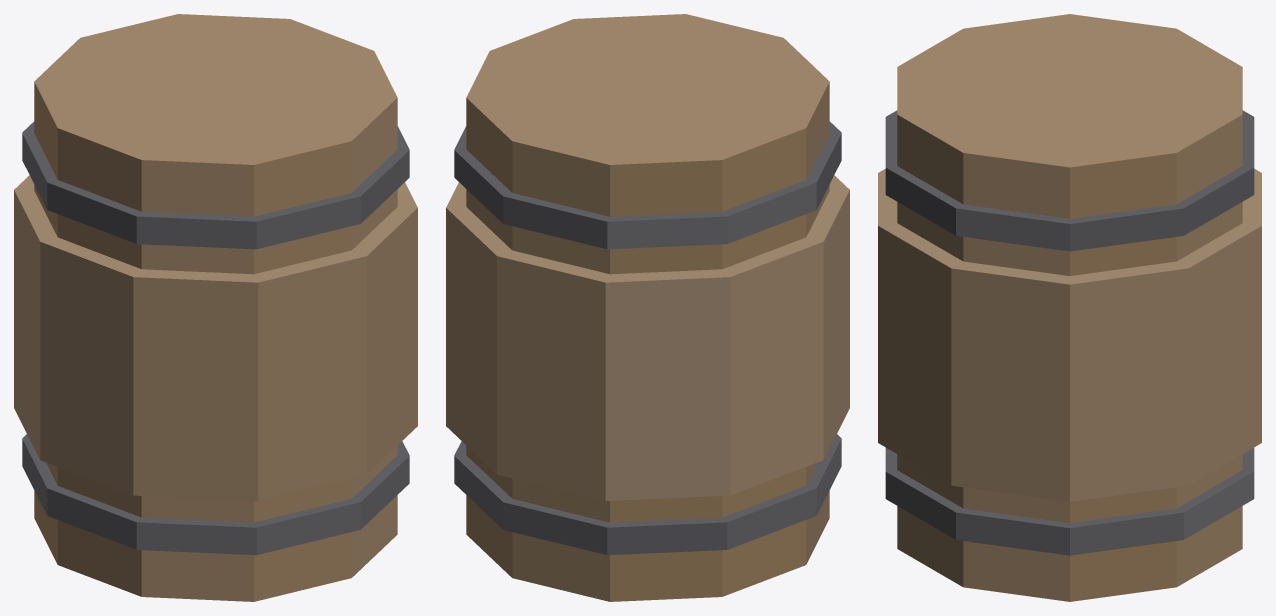
File: barrel.glb
3 views of the same model, side by side, from view 1: azimuth 30°, elevation 25°; view 2: azimuth 150°, elevation 25°; view 3: azimuth 270°, elevation 25° (orthographic).
Visible parts, largest first — view 1: barrel2; view 2: barrel2; view 3: barrel2.
Boxes of the visible parts, x1,y1,x2,y2 form: barrel2: (14,14,417,601); barrel2: (446,14,849,601); barrel2: (878,14,1261,601).
Bounding box in the file's own units: 0.8 × 0.95 × 0.7608.
